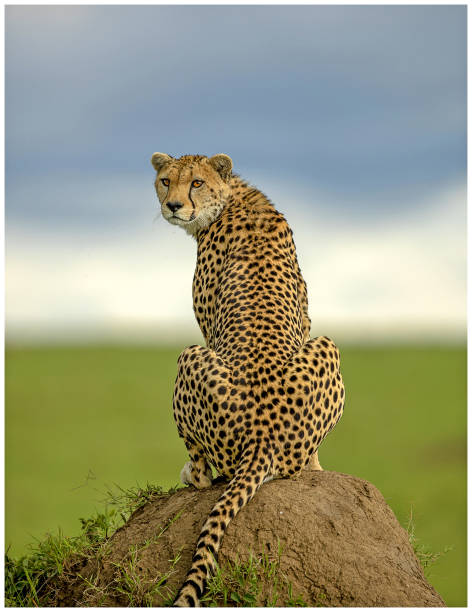cheetah: (134, 134, 258, 243)
